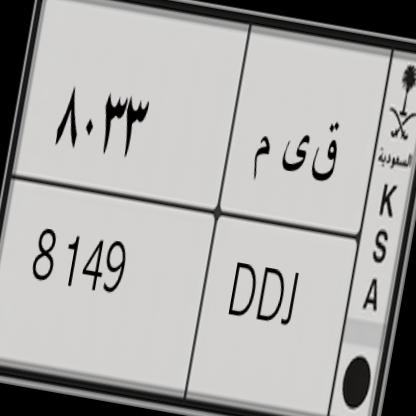english: (0, 146, 371, 416)
